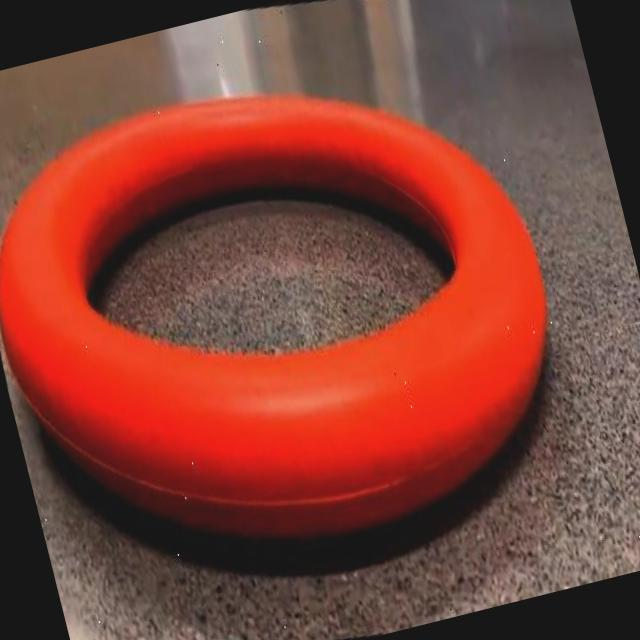note: (0, 96, 546, 538)
